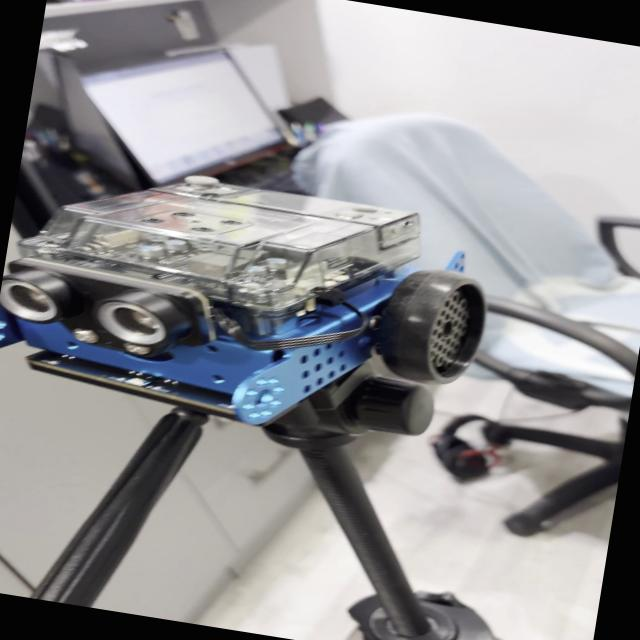mbot-detection: (0, 137, 510, 466)
